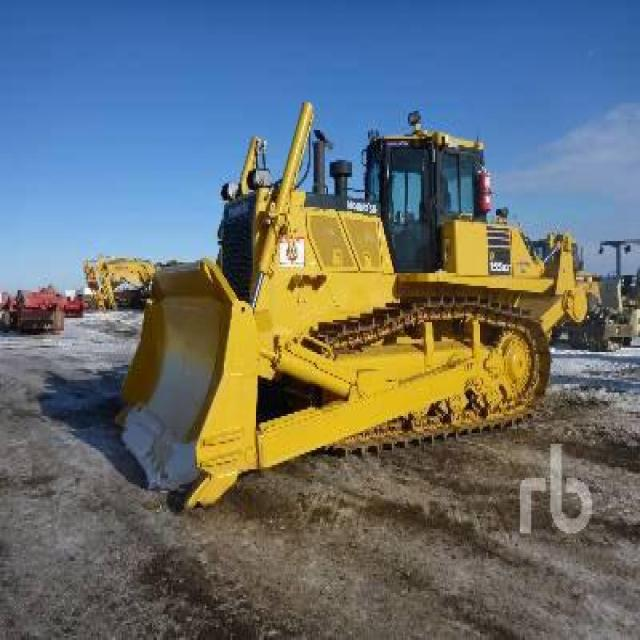buldozerpayloadergrader: (82, 85, 608, 523)
